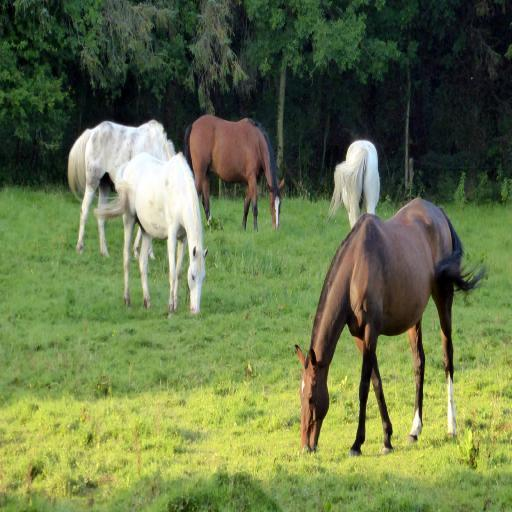horse: (292, 195, 490, 450), (94, 147, 208, 316), (66, 116, 176, 260), (184, 116, 286, 228), (327, 138, 380, 230)
